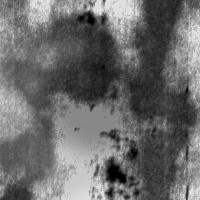patches: (0, 28, 129, 188), (129, 1, 193, 200), (43, 50, 147, 154), (10, 12, 117, 110), (1, 116, 53, 200), (97, 143, 138, 199), (74, 7, 112, 27)
